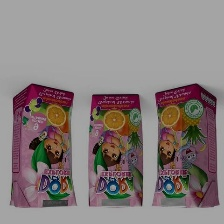carton: (149, 78, 224, 213), (6, 80, 82, 212), (82, 90, 150, 212)
